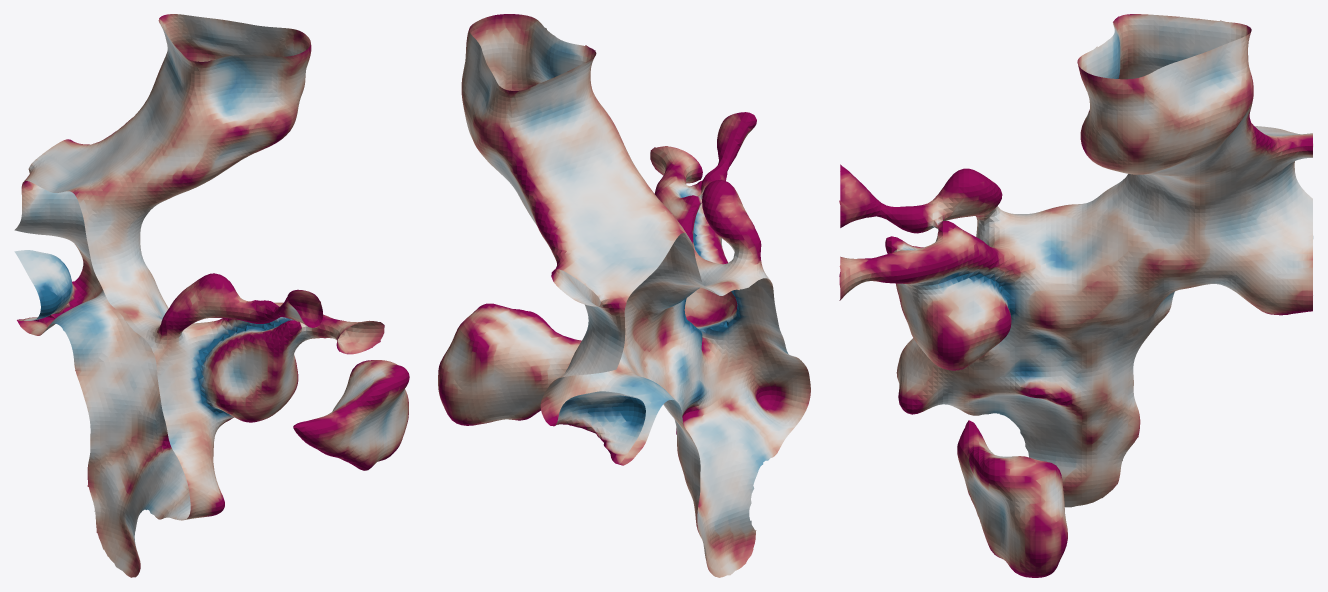
Rendered from crop1143_deviation.glb.
3 views of the same model, side by side, from view 1: azimuth 30°, elevation 25°; view 2: azimuth 150°, elevation 25°; view 3: azimuth 270°, elevation 25° (orthographic). The views are drawn at different scales.
Visible parts, largest first — view 1: world; view 2: world; view 3: world.
Boxes of the visible parts, x1,y1,x2,y2 form: world: (14, 14, 409, 577); world: (438, 14, 810, 577); world: (839, 14, 1313, 577).
Size of the model in its own units: 1176 by 1896 by 1478.
